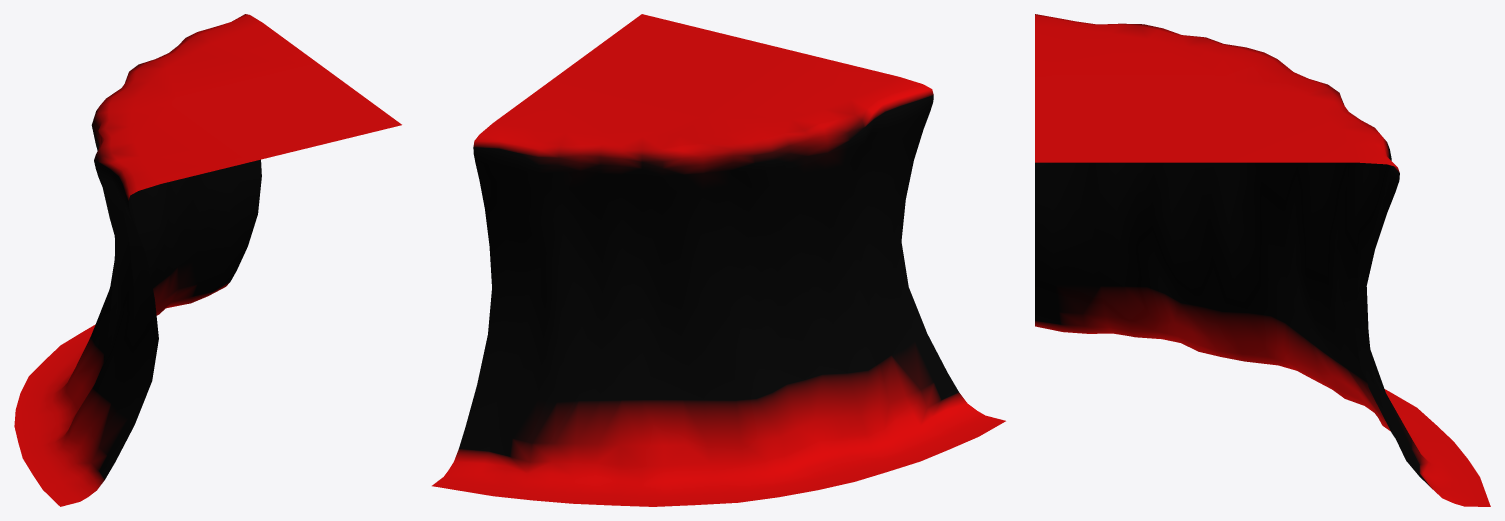
File: GroundCliff03C 2M Background.fbx
3 renders of one model, left to right at view 1: azimuth 30°, elevation 25°; view 2: azimuth 150°, elevation 25°; view 3: azimuth 270°, elevation 25°, orthographic. The views are drawn at different scales.
Parts seen in each view (by area): view 1: GroundCliff03C 2M Background; view 2: GroundCliff03C 2M Background; view 3: GroundCliff03C 2M Background.
Boxes of the visible parts, x1,y1,x2,y2 form: GroundCliff03C 2M Background: (14, 14, 401, 506); GroundCliff03C 2M Background: (432, 14, 1005, 506); GroundCliff03C 2M Background: (1035, 14, 1490, 506).
Size of the model in its own units: 2.4 by 2 by 2.4.
